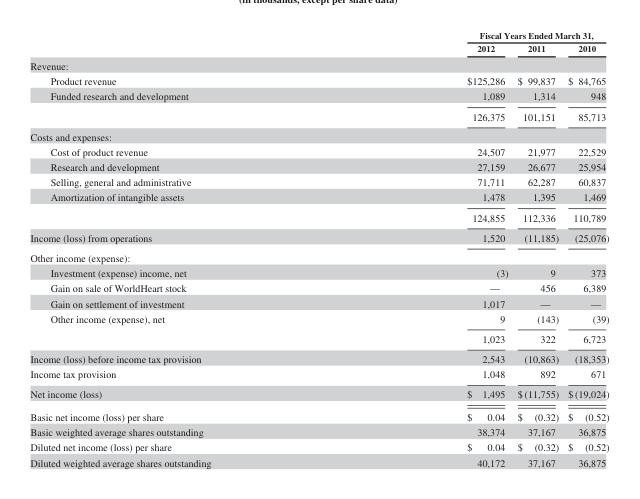table: (29, 29, 608, 467)
table column: (29, 29, 338, 467), (338, 29, 512, 467), (512, 29, 562, 467), (562, 29, 608, 467)
table column header: (29, 29, 608, 56)
table projected row header: (29, 247, 608, 265), (29, 56, 608, 73), (29, 126, 608, 143)
table row: (29, 383, 608, 405), (29, 106, 608, 126), (29, 207, 608, 227), (29, 227, 608, 247), (29, 328, 608, 348), (29, 405, 608, 424), (29, 88, 608, 106), (29, 189, 608, 207), (29, 247, 608, 265), (29, 310, 608, 328), (29, 348, 608, 366), (29, 56, 608, 73), (29, 126, 608, 143), (29, 366, 608, 383), (29, 143, 608, 159), (29, 41, 608, 56), (29, 73, 608, 88), (29, 159, 608, 174), (29, 174, 608, 189), (29, 265, 608, 280), (29, 280, 608, 295), (29, 295, 608, 310), (29, 424, 608, 439), (29, 439, 608, 454), (29, 454, 608, 467), (29, 29, 608, 41)
table spanning cell: (338, 29, 608, 41)
